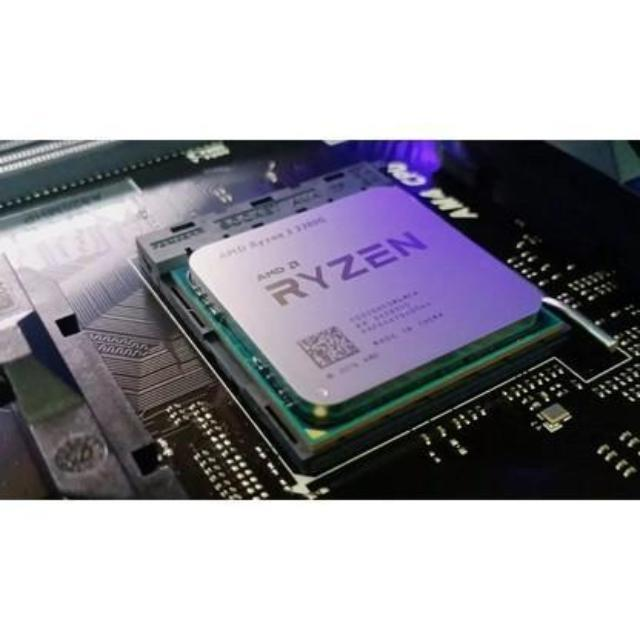CPU: (177, 188, 548, 410)
